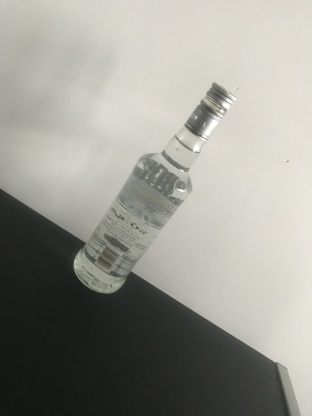nakretka: (184, 79, 238, 142)
